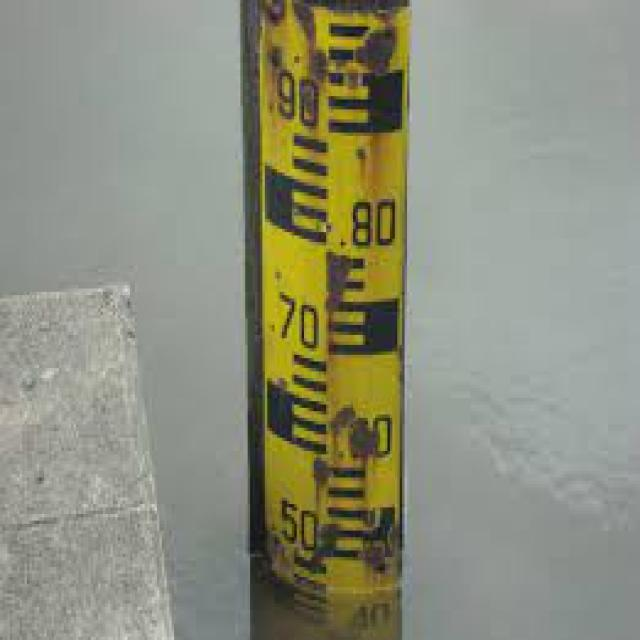ruler: (230, 0, 427, 620)
value: (259, 63, 327, 135), (260, 287, 326, 358), (334, 192, 406, 255), (329, 406, 402, 467), (262, 491, 324, 560)
